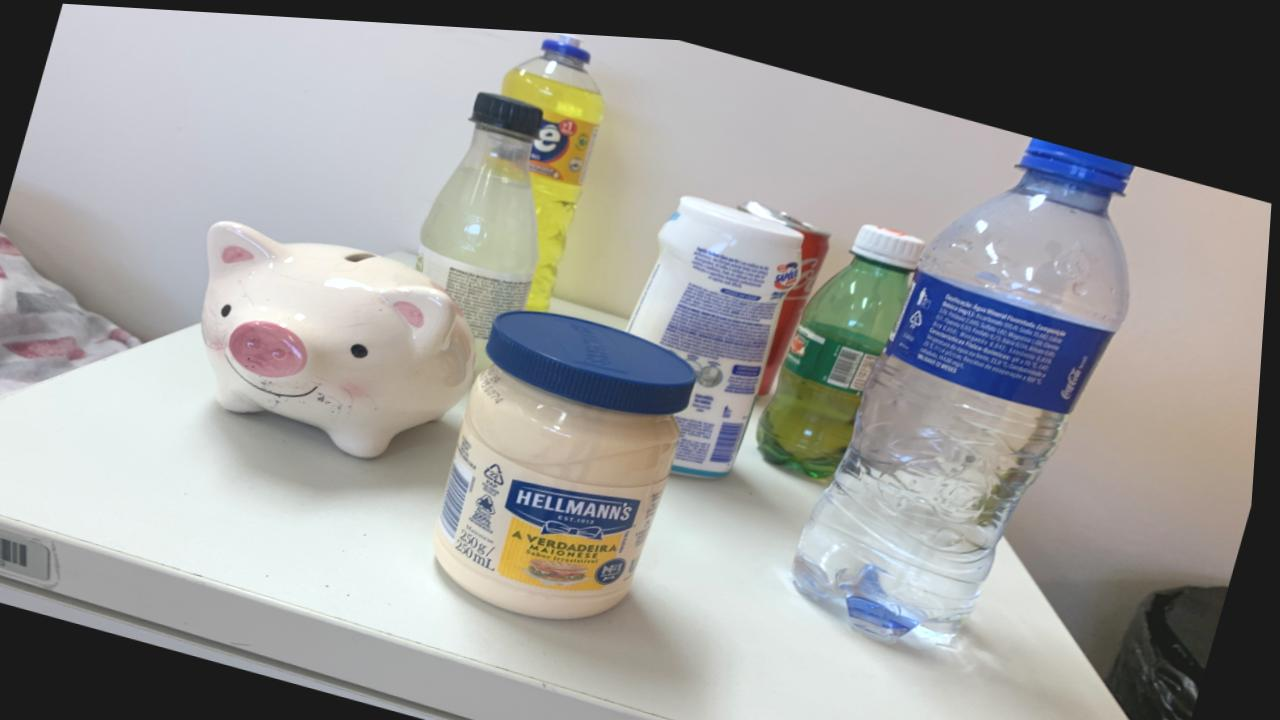Cleaner-Cleanup_Items: (631, 187, 806, 468)
Coke-Drinks: (740, 191, 833, 386)
Detergent-Cleanup_Items: (501, 26, 606, 303)
Guarana-Drinks: (761, 214, 927, 468)
Mayonnaise-Pantry_Items: (440, 304, 700, 612)
Pig_Safe-Miscellaneous: (204, 218, 480, 454)
Soda-Drinks: (418, 86, 543, 333)
Water_Bottle-Drinks: (800, 125, 1133, 630)
